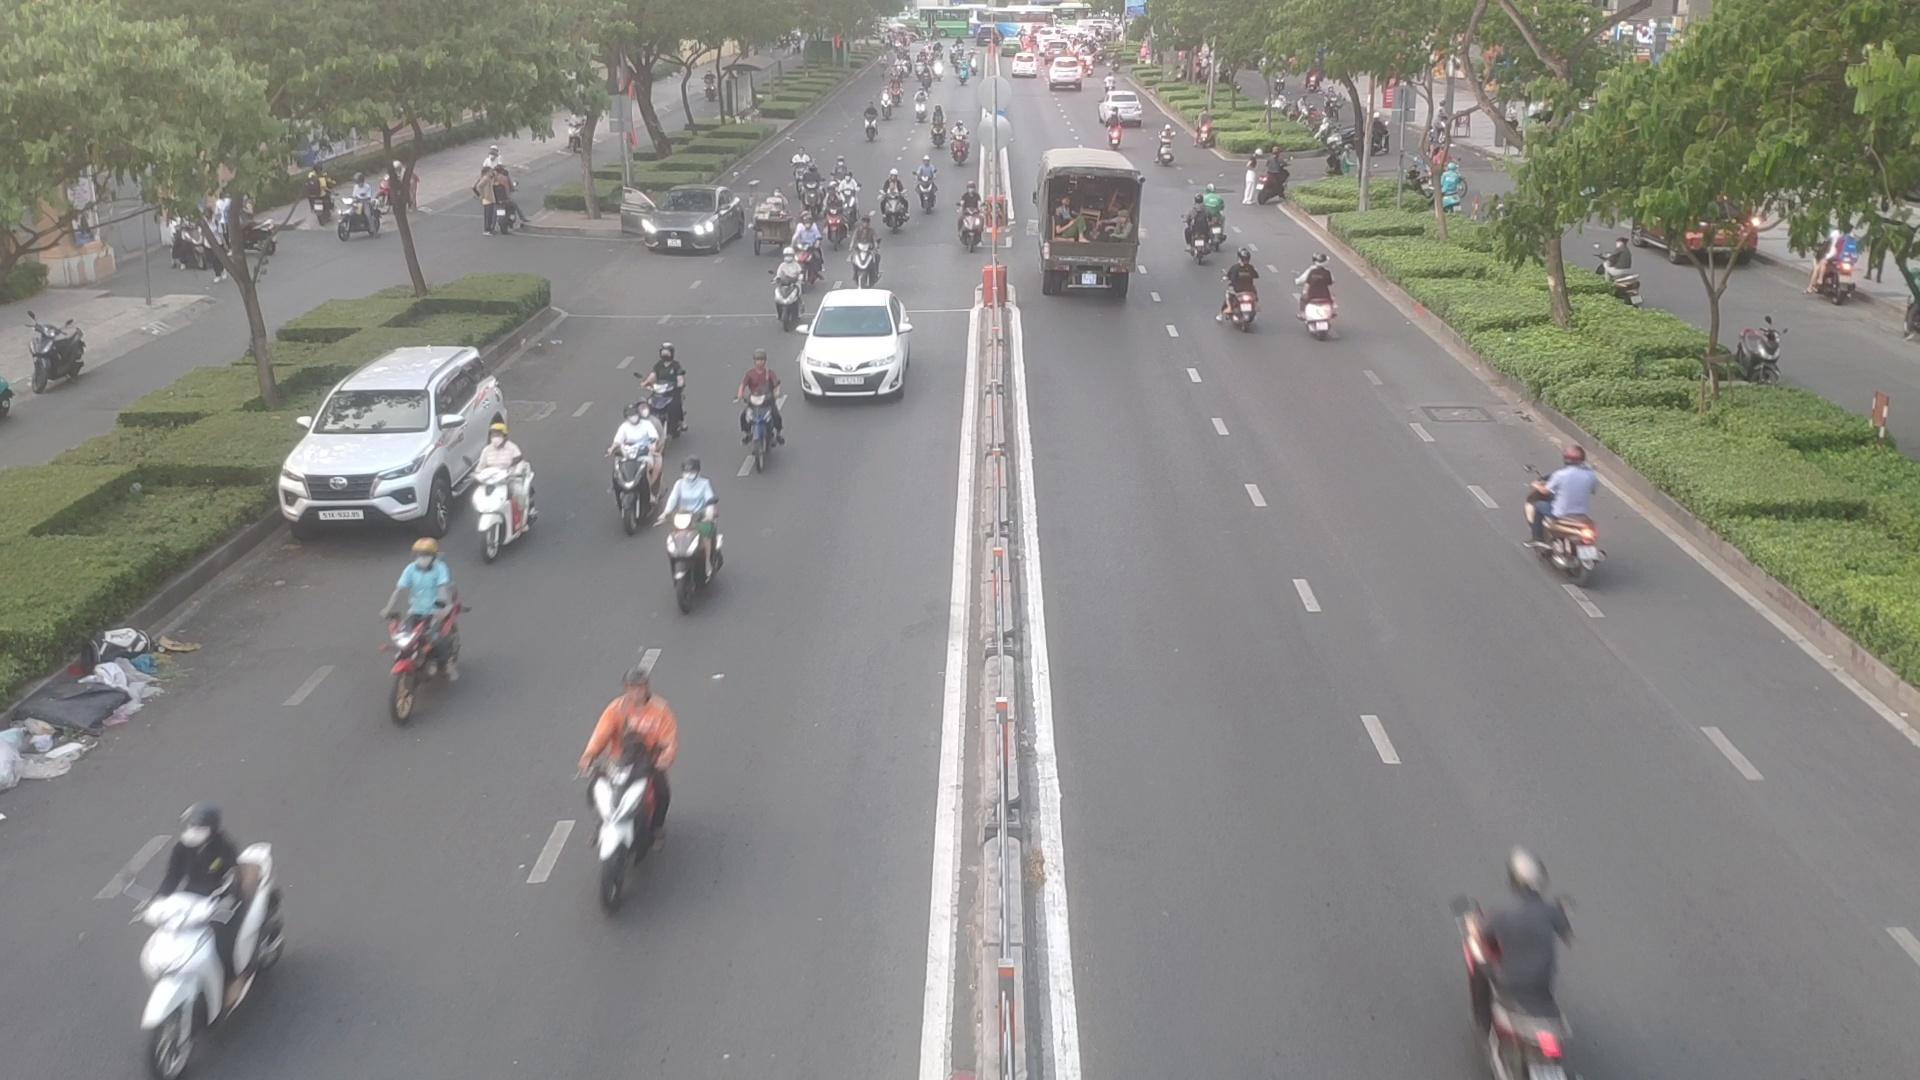car: (287, 343, 520, 533), (1034, 146, 1145, 299), (796, 293, 916, 402), (618, 190, 749, 257)
motorbike: (99, 802, 307, 1069), (556, 678, 679, 916), (377, 549, 465, 715), (587, 676, 688, 818), (1524, 448, 1619, 574), (649, 476, 735, 609), (462, 435, 539, 556), (729, 360, 793, 467), (607, 415, 665, 518), (634, 345, 692, 429), (1300, 258, 1345, 339), (1178, 193, 1226, 266), (1222, 255, 1267, 330), (953, 189, 994, 253), (767, 262, 804, 324), (876, 175, 909, 233), (916, 160, 944, 207), (833, 173, 861, 215)
